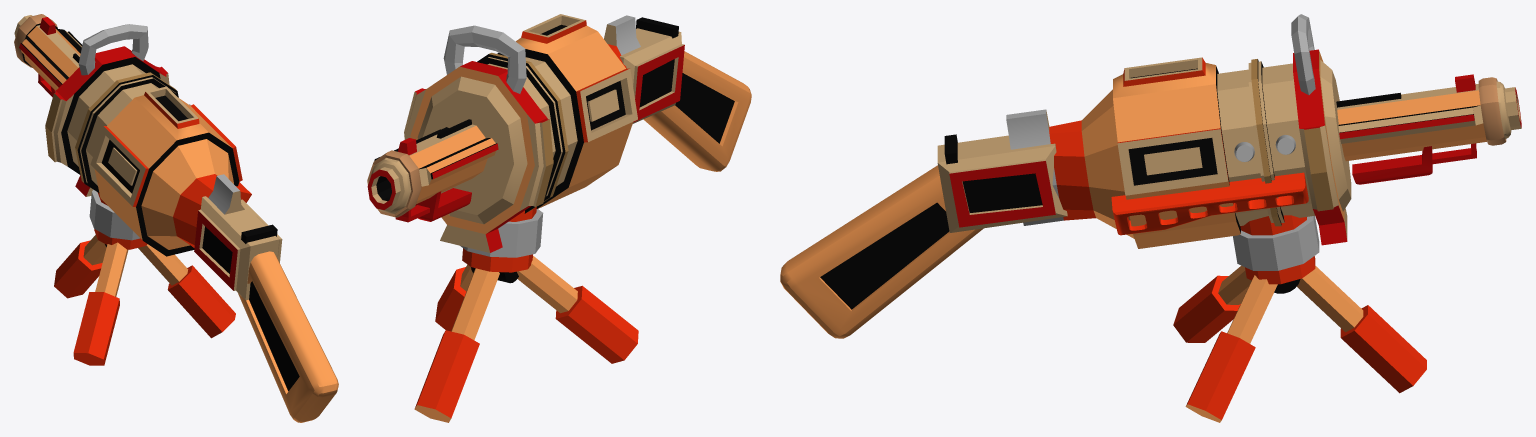
The model's file is Nerfgun.fbx.
3 renders of one model, left to right at view 1: azimuth 30°, elevation 25°; view 2: azimuth 150°, elevation 25°; view 3: azimuth 270°, elevation 25°, orthographic. The views are drawn at different scales.
Parts seen in each view (by area): view 1: pCylinder63; view 2: pCylinder63; view 3: pCylinder63.
Part boxes in pixels (bbox=[...]): pCylinder63: bbox=[14, 14, 338, 422]; pCylinder63: bbox=[367, 14, 751, 422]; pCylinder63: bbox=[780, 14, 1521, 422].
Size of the model in its own units: 55.11 by 95.33 by 175.
